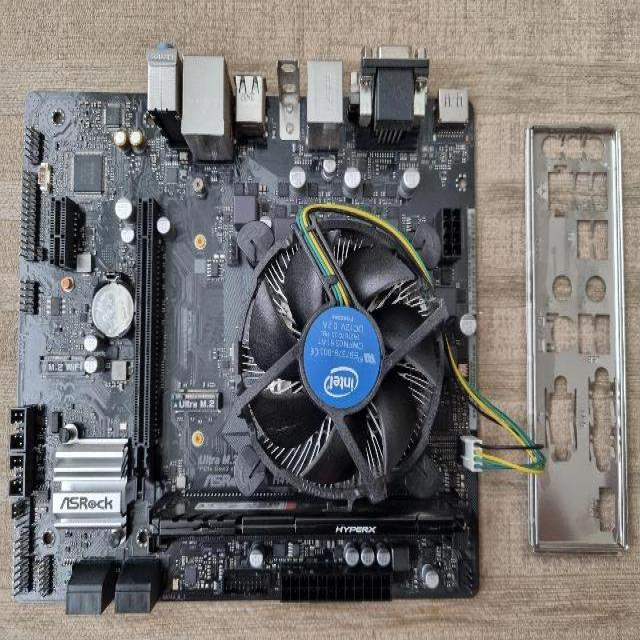CPU_Fan: (234, 216, 448, 504)
RAM: (150, 506, 468, 537)
